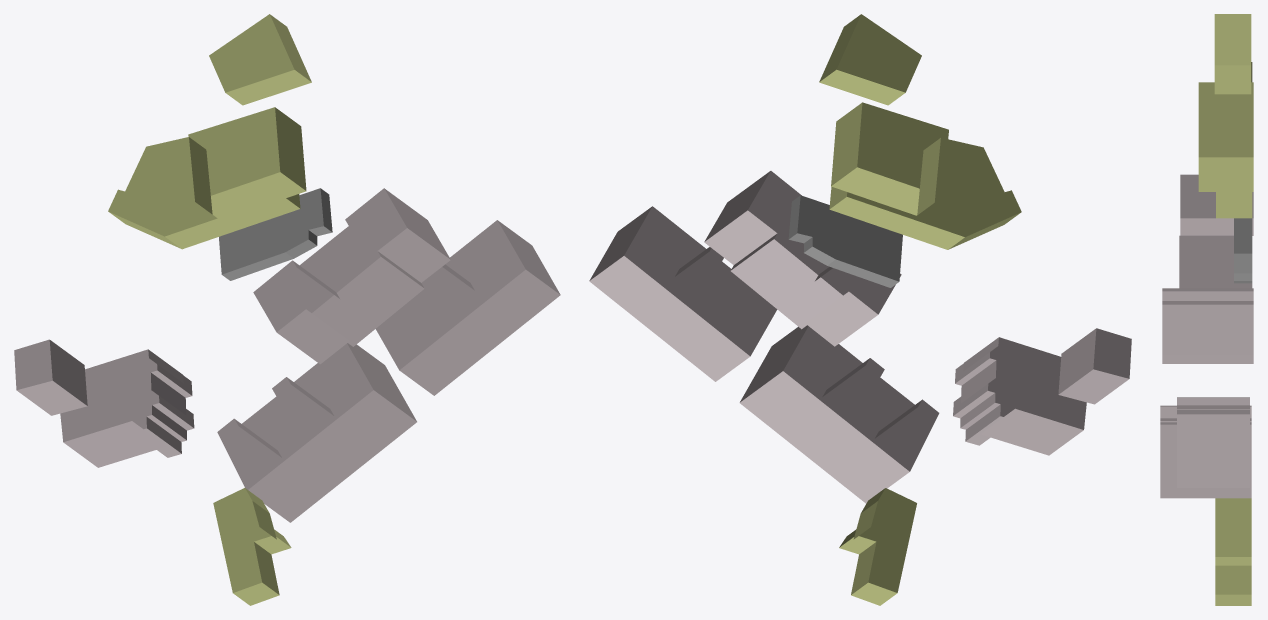
3 views of the same model, side by side, from view 1: azimuth 30°, elevation 25°; view 2: azimuth 150°, elevation 25°; view 3: azimuth 270°, elevation 25° (orthographic). The views are drawn at different scales.
Parts seen in each view (by area): view 1: 0_1_0_2_1_3_2_1; view 2: 0_1_0_2_1_3_2_1; view 3: 0_1_0_2_1_3_2_1.
Part boxes in pixels (<box>): 0_1_0_2_1_3_2_1: <box>14,14,560,605</box>; 0_1_0_2_1_3_2_1: <box>589,14,1131,605</box>; 0_1_0_2_1_3_2_1: <box>1160,14,1253,605</box>.
Size of the model in its own units: 101 by 108 by 15.3.
